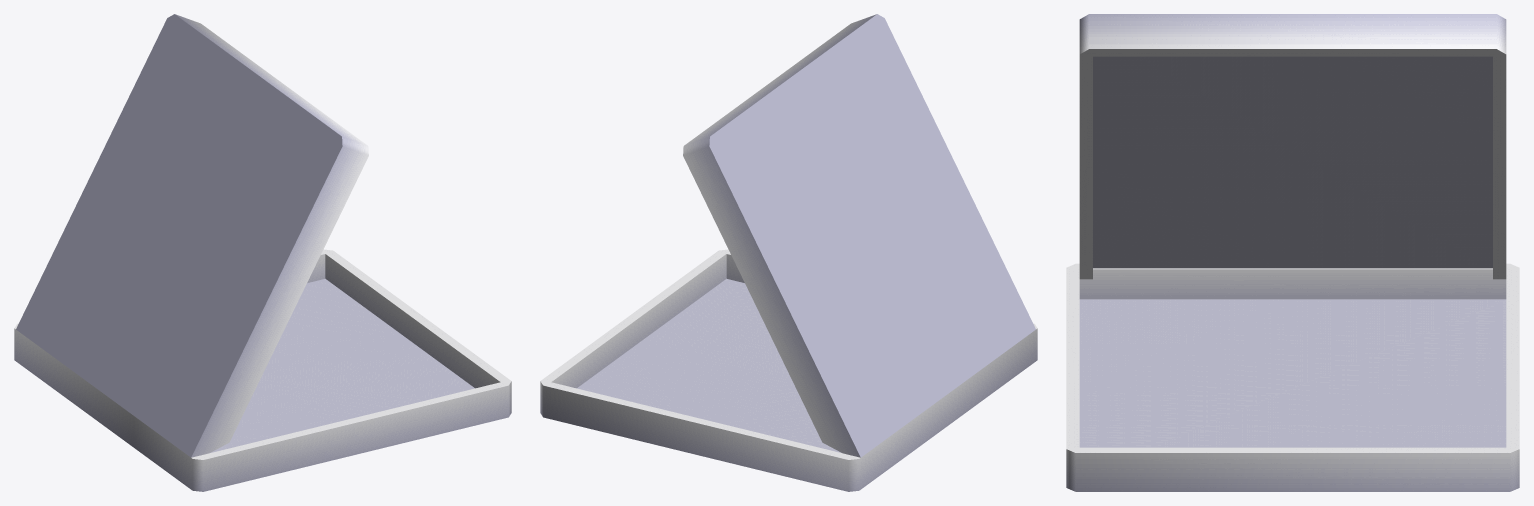
Rendered from pizza-box.glb.
3 renders of one model, left to right at view 1: azimuth 30°, elevation 25°; view 2: azimuth 150°, elevation 25°; view 3: azimuth 270°, elevation 25°, orthographic. The views are drawn at different scales.
Parts seen in each view (by area): view 1: lid, pizza-box; view 2: lid, pizza-box; view 3: lid, pizza-box.
Part boxes in pixels (x1,y1,x2,y2): lid: (16,14,368,457); pizza-box: (14,249,511,491); lid: (683,14,1035,457); pizza-box: (540,249,1037,491); lid: (1079,14,1506,279); pizza-box: (1066,263,1519,491).
Size of the model in its own units: 0.9418 by 0.8816 by 0.9518.
Materials: 1 (1 with a texture image).
